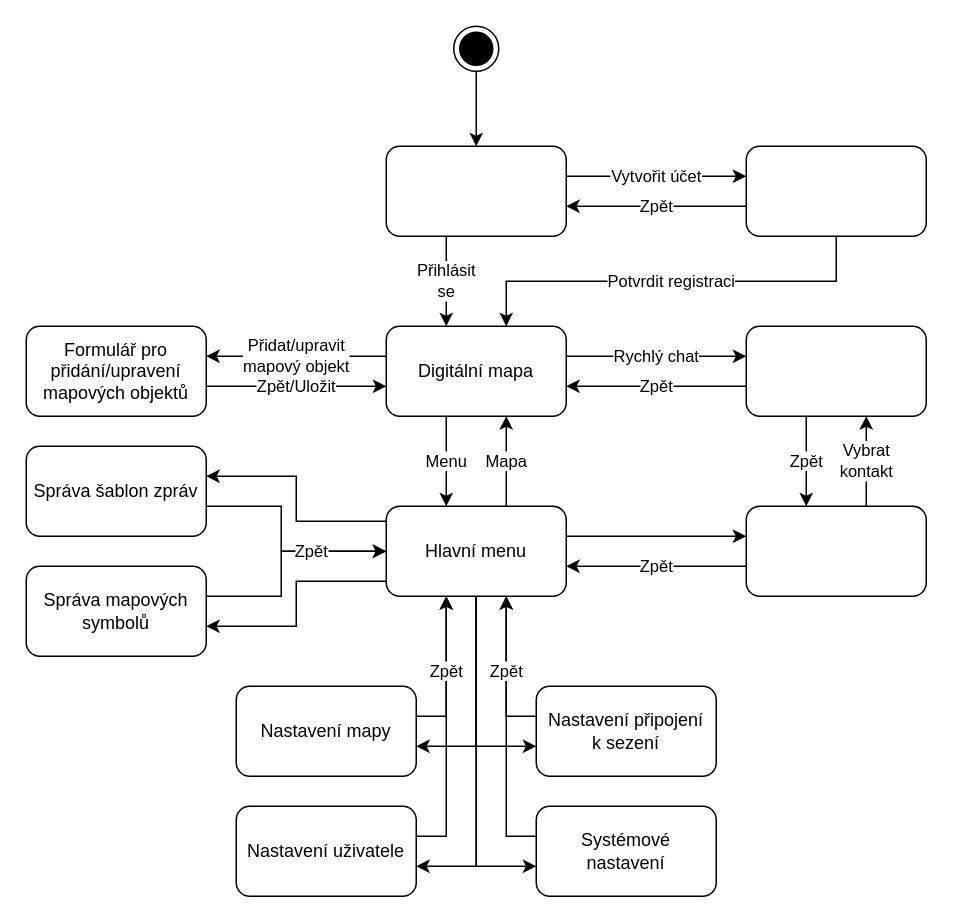
Image size: 953x923. Some labels were removed from this diagram. Each missing label, with the box of its shape:
Chatovací obrazovka: (745, 325, 926, 416)
Přihlašovací obrazovka: (385, 145, 566, 236)
Registrační obrazovka: (745, 145, 926, 236)
Seznam kontaktů: (745, 505, 926, 596)
